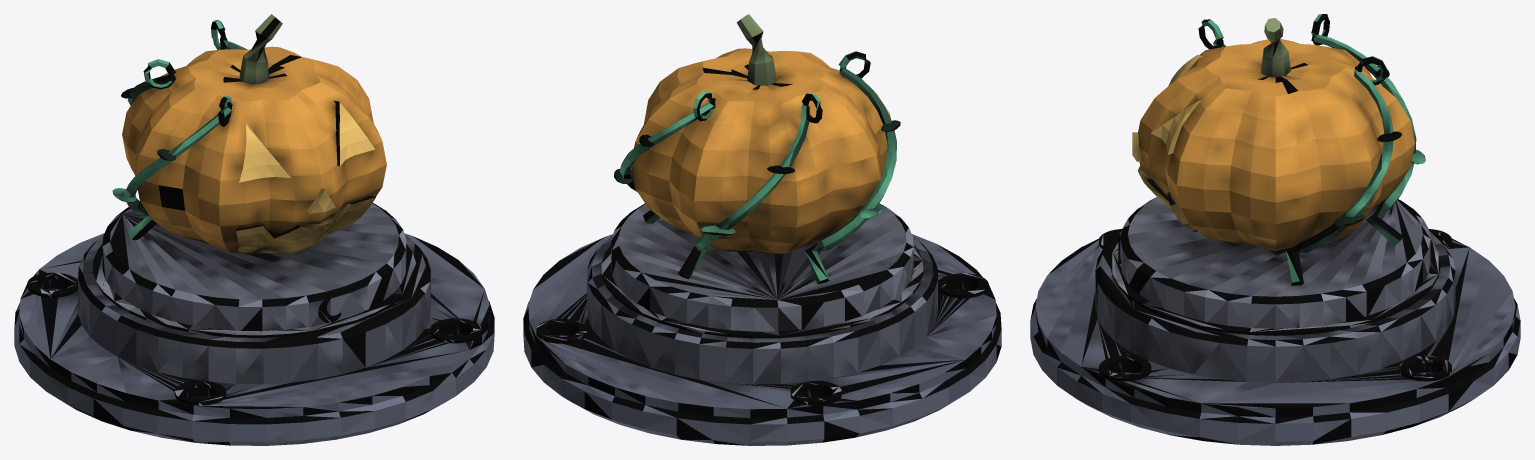
The model's file is altar_calabaza.glb.
The picture shows the model from 3 angles, left to right: view 1: azimuth 30°, elevation 25°; view 2: azimuth 150°, elevation 25°; view 3: azimuth 270°, elevation 25°; orthographic projection. The views are drawn at different scales.
Parts seen in each view (by area): view 1: Pumpkin, Tier3, Tier1_Slab, Tier2, Tier1_Base, Tier2_Ring, FaceMouth, Vine_3, Stem, FaceEyeL, FaceEyeR, Vine_2 (+4 smaller); view 2: Pumpkin, Tier3, Tier1_Slab, Tier2, Tier1_Base, Tier2_Ring, Vine_3, Vine_2, Vine_1, Stem, CandleSocketCollar_3, CandleSocketCollar_1 (+1 smaller); view 3: Pumpkin, Tier3, Tier1_Slab, Tier2, Tier1_Base, Tier2_Ring, Vine_1, Vine_2, Stem, CandleSocketCollar_1, CandleSocketCollar_2, FaceEyeR (+1 smaller).
Part boxes in pixels (box(x1,y1,x2,y2)): Pumpkin: box(122, 46, 386, 253); Tier3: box(102, 203, 406, 331); Tier1_Slab: box(19, 233, 489, 417); Tier2: box(78, 235, 430, 384); Tier1_Base: box(14, 288, 494, 445); Tier2_Ring: box(92, 244, 416, 337); FaceMouth: box(236, 195, 375, 253); Vine_3: box(124, 95, 232, 240); Stem: box(239, 14, 282, 84); FaceEyeL: box(239, 122, 291, 182); FaceEyeR: box(334, 100, 374, 165); Vine_2: box(127, 59, 176, 105); Pumpkin: box(631, 48, 890, 254); Tier3: box(611, 203, 913, 331); Tier1_Slab: box(528, 234, 996, 417); Tier2: box(587, 236, 937, 384); Tier1_Base: box(523, 289, 1001, 445); Tier2_Ring: box(601, 244, 923, 338); Vine_3: box(805, 51, 896, 284); Vine_2: box(678, 93, 822, 279); Vine_1: box(619, 91, 715, 223); Stem: box(736, 14, 776, 85); CandleSocketCollar_3: box(938, 273, 988, 298); CandleSocketCollar_1: box(536, 319, 587, 343); Pumpkin: box(1138, 39, 1415, 250); Tier3: box(1120, 197, 1430, 328); Tier1_Slab: box(1035, 238, 1515, 417); Tier2: box(1095, 231, 1455, 382); Tier1_Base: box(1030, 298, 1520, 445); Tier2_Ring: box(1110, 240, 1440, 335); Vine_1: box(1286, 56, 1393, 285); Vine_2: box(1311, 14, 1416, 245); Stem: box(1261, 18, 1290, 77); CandleSocketCollar_1: box(1399, 356, 1451, 381); CandleSocketCollar_2: box(1099, 356, 1151, 381); FaceEyeR: box(1150, 100, 1201, 154).
Size of the model in its own units: 1.96 by 1.49 by 1.96.
Materials: 9 (9 with a texture image).
